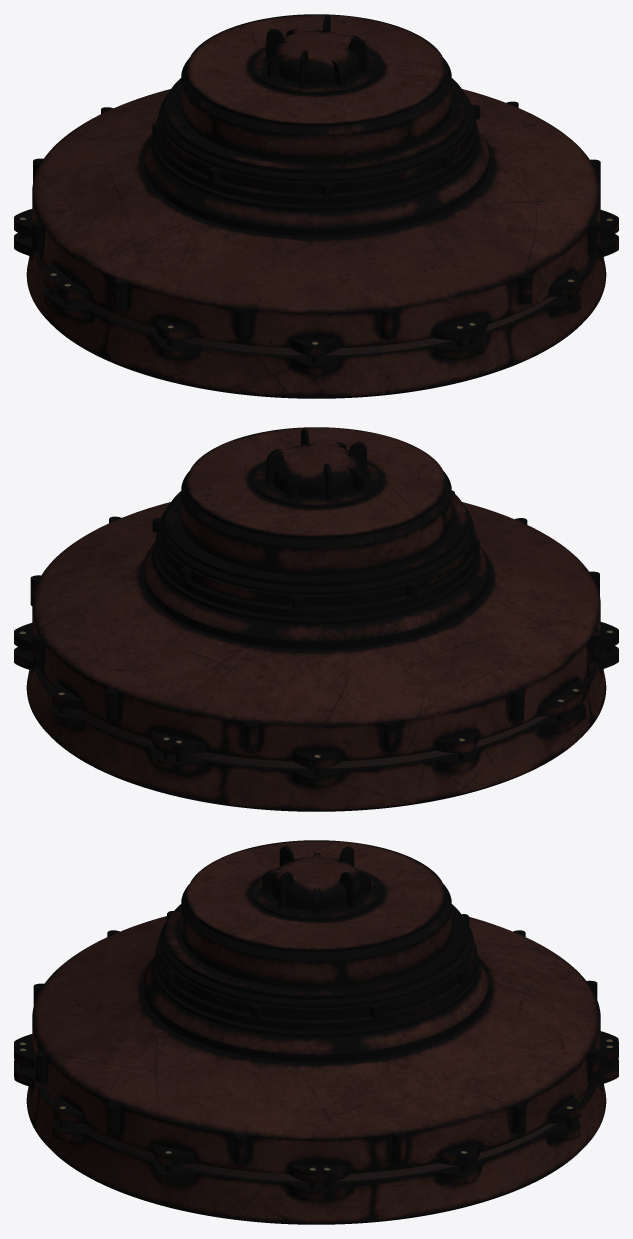
The model's file is pignone-mod43.glb.
The picture shows the model from 3 angles, top to bottom: view 1: azimuth 30°, elevation 25°; view 2: azimuth 150°, elevation 25°; view 3: azimuth 270°, elevation 25°; orthographic projection.
Parts seen in each view (by area): view 1: Cylinder; view 2: Cylinder; view 3: Cylinder.
Part boxes in pixels (bbox=[...]): Cylinder: bbox=[14, 14, 618, 398]; Cylinder: bbox=[14, 427, 618, 811]; Cylinder: bbox=[14, 840, 618, 1224].
Bounding box in the file's own units: 33.19 × 14.82 × 33.19.
3 materials, 3 textured.
